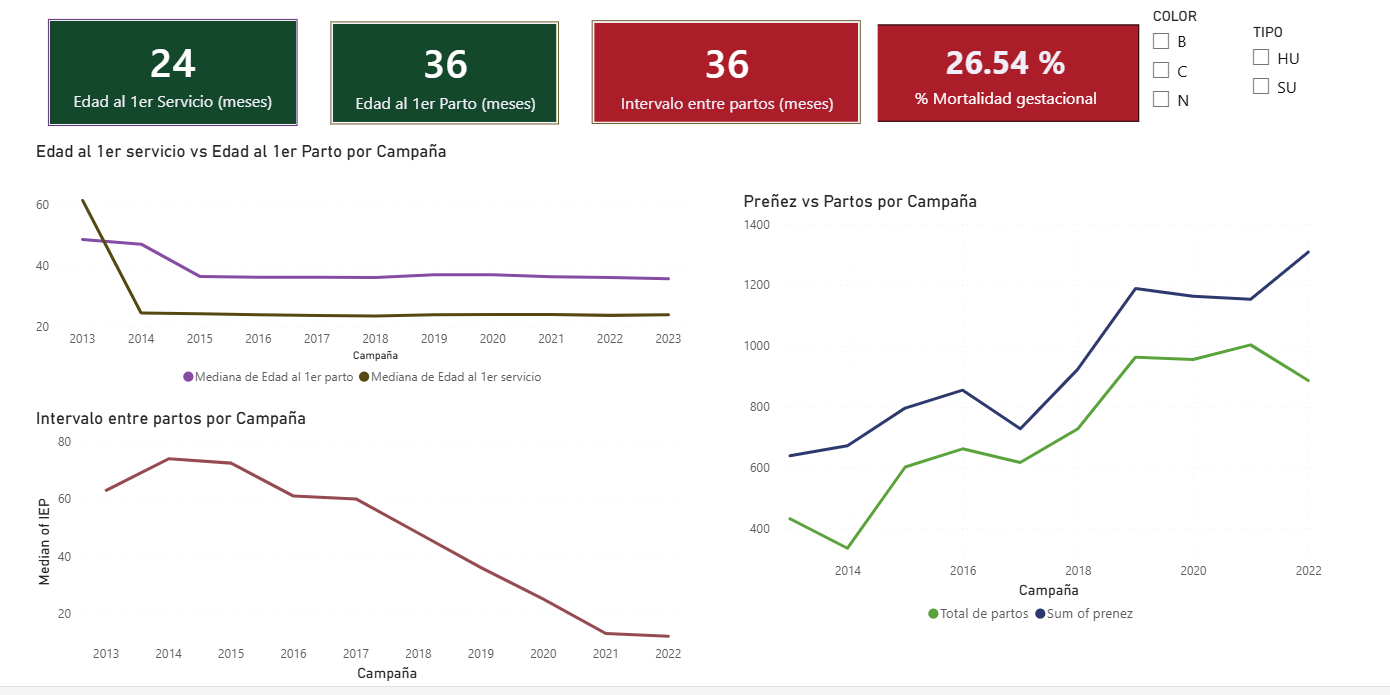

Layout of this report page (visuals, bound fields, positions):
{"tool":"powerbi","page":{"name":"Página 1","canvas":[1280,720],"ordinal":0},"visuals":[{"type":"lineChart","title":"Preñez vs Partos por Campaña","fields":{"Category":["t_partos_final.CAMPANIA"],"Y":["Sum(t_partos_final.N_partos_conteo)","Sum(t_prenez_final.prenez)"]},"box":[699.1,231.4,580.9,436.6],"z":0},{"type":"actionButton","box":[0,0,100,40],"z":1000},{"type":"slicer","title":"Tipo","fields":{"Values":["t_prenez_final.RAZA"]},"box":[1194.5,61.1,85.5,106.2],"z":2000},{"type":"card","fields":{"Values":["EIP_final.% Mortalidad"]},"box":[832.2,66.3,262.5,95.8],"z":3000},{"type":"lineChart","title":"Edad al 1er servicio vs Edad al 1er Parto por Campaña","fields":{"Category":["EIS_final.CAMPANIA"],"Y":["Median(EIP_final.E1P_MESES)","Median(EIS_final.E1S_MESES)"]},"box":[0,181.6,658.1,251.3],"z":4000},{"type":"cardVisual","fields":{"Data":["Median(EIS_final.E1S)"]},"box":[0,44.5,280.1,139.3],"z":5000},{"type":"cardVisual","fields":{"Data":["Median(EIP_final.E1P)"]},"box":[279.1,46.6,259.4,135.2],"z":6000},{"type":"slicer","title":"Color","fields":{"Values":["t_prenez_final.COLOR_3"]},"box":[1094.9,44.5,100.8,139.3],"z":7000},{"type":"lineChart","title":"Intervalo entre partos por Campaña","fields":{"Category":["IEP1_final.CAMPANIA"],"Y":["Median(IEP1_final.IEP)"]},"box":[0,445.3,659.3,274.9],"z":8000},{"type":"cardVisual","fields":{"Data":["Median(IEP1_final.IEP)"]},"box":[537.5,45.9,299.4,136.6],"z":9000}]}

Visuals, with their boxes on the page's 1280x720 design canvas (x1, y1, x2, y2). These are canvas units, not pixel positions in the 1390x695 screenshot, which may show the page scaled, cropped or inside an application window:
"Preñez vs Partos por Campaña" lineChart: BBox(699, 231, 1280, 668)
actionButton: BBox(0, 0, 100, 40)
"Tipo" slicer: BBox(1194, 61, 1280, 167)
card - EIP_final.% Mortalidad: BBox(832, 66, 1095, 162)
"Edad al 1er servicio vs Edad al 1er Parto por Campaña" lineChart: BBox(0, 182, 658, 433)
cardVisual - Median(EIS_final.E1S): BBox(0, 44, 280, 184)
cardVisual - Median(EIP_final.E1P): BBox(279, 47, 538, 182)
"Color" slicer: BBox(1095, 44, 1196, 184)
"Intervalo entre partos por Campaña" lineChart: BBox(0, 445, 659, 720)
cardVisual - Median(IEP1_final.IEP): BBox(538, 46, 837, 182)
